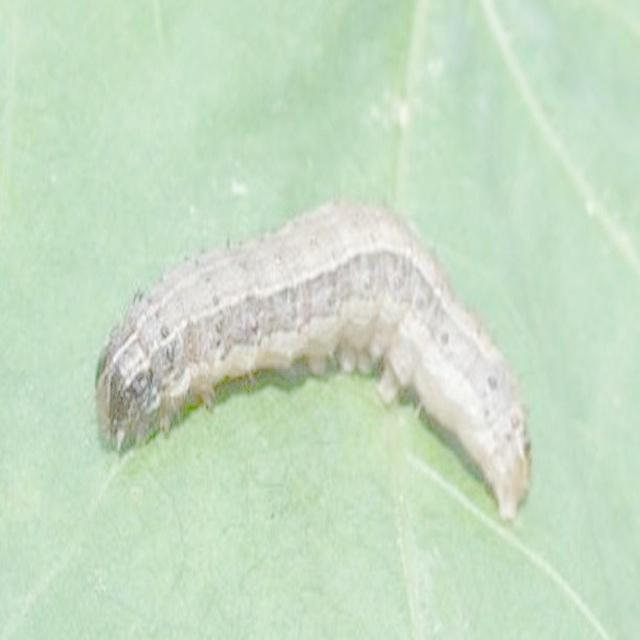Plaga: (93, 200, 530, 518)
